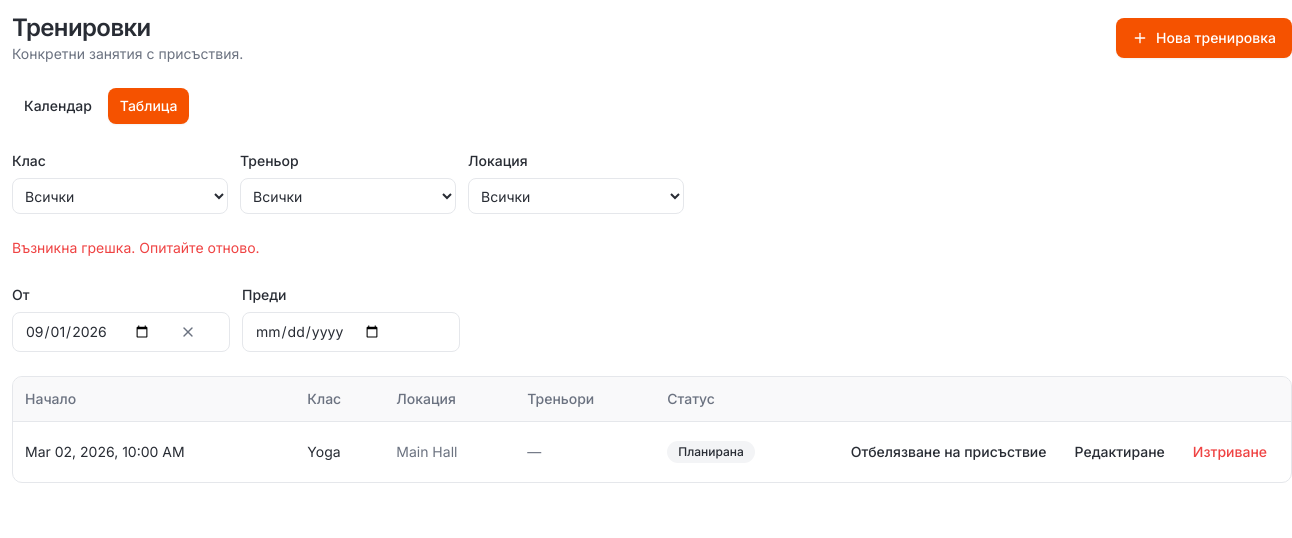
Scenario: SessionsListPage › rejects an inverted range without sending a request
The image size is (1292, 538).
Expected: the cell "Yoga" is shown, [295, 422, 384, 482]
Type "2026-03-09" into the date field with id "filter-from" at (121, 332), box [12, 312, 230, 352]
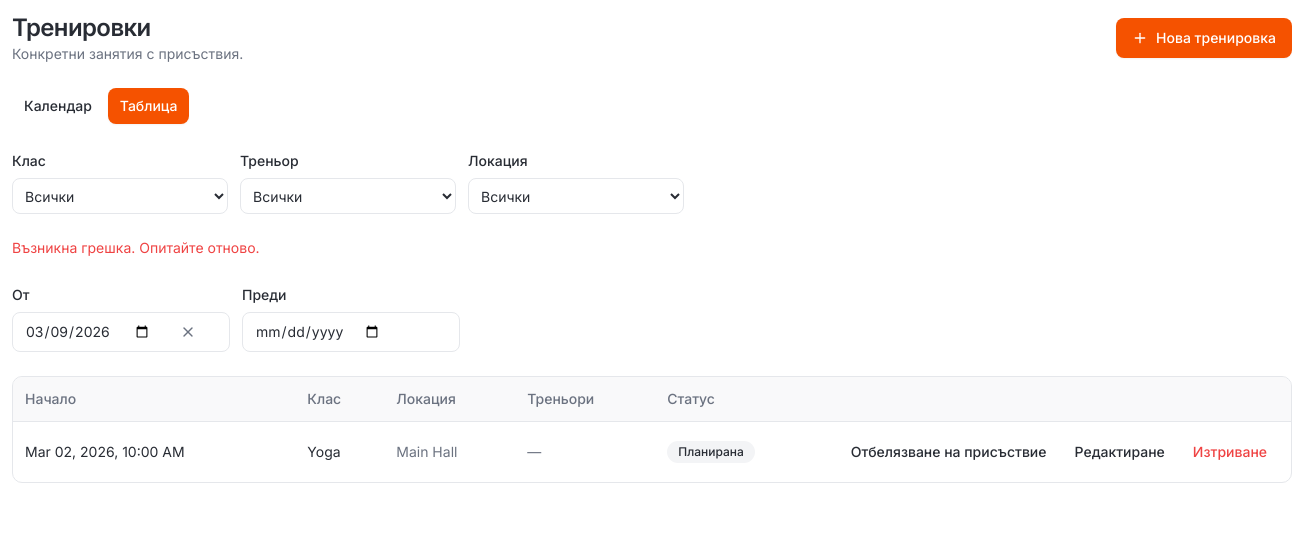
Type "2026-03-02" into the date field with id "filter-before" at (351, 332), box [242, 312, 460, 352]
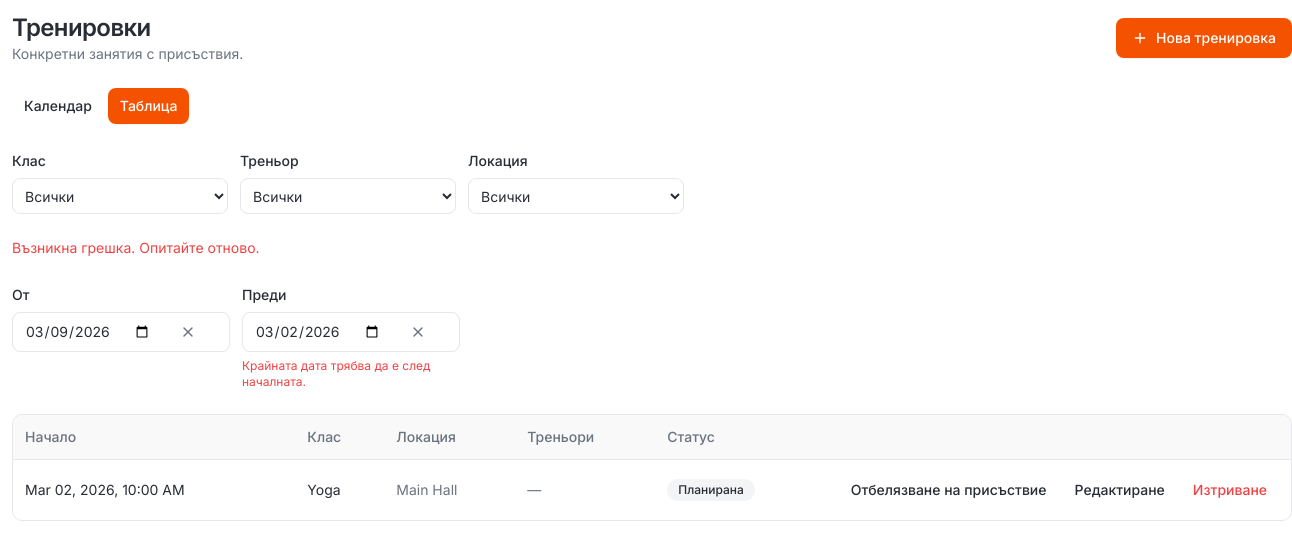
Result: the text "Крайната дата трябва да е след началната." is shown at [242, 358, 460, 390]
